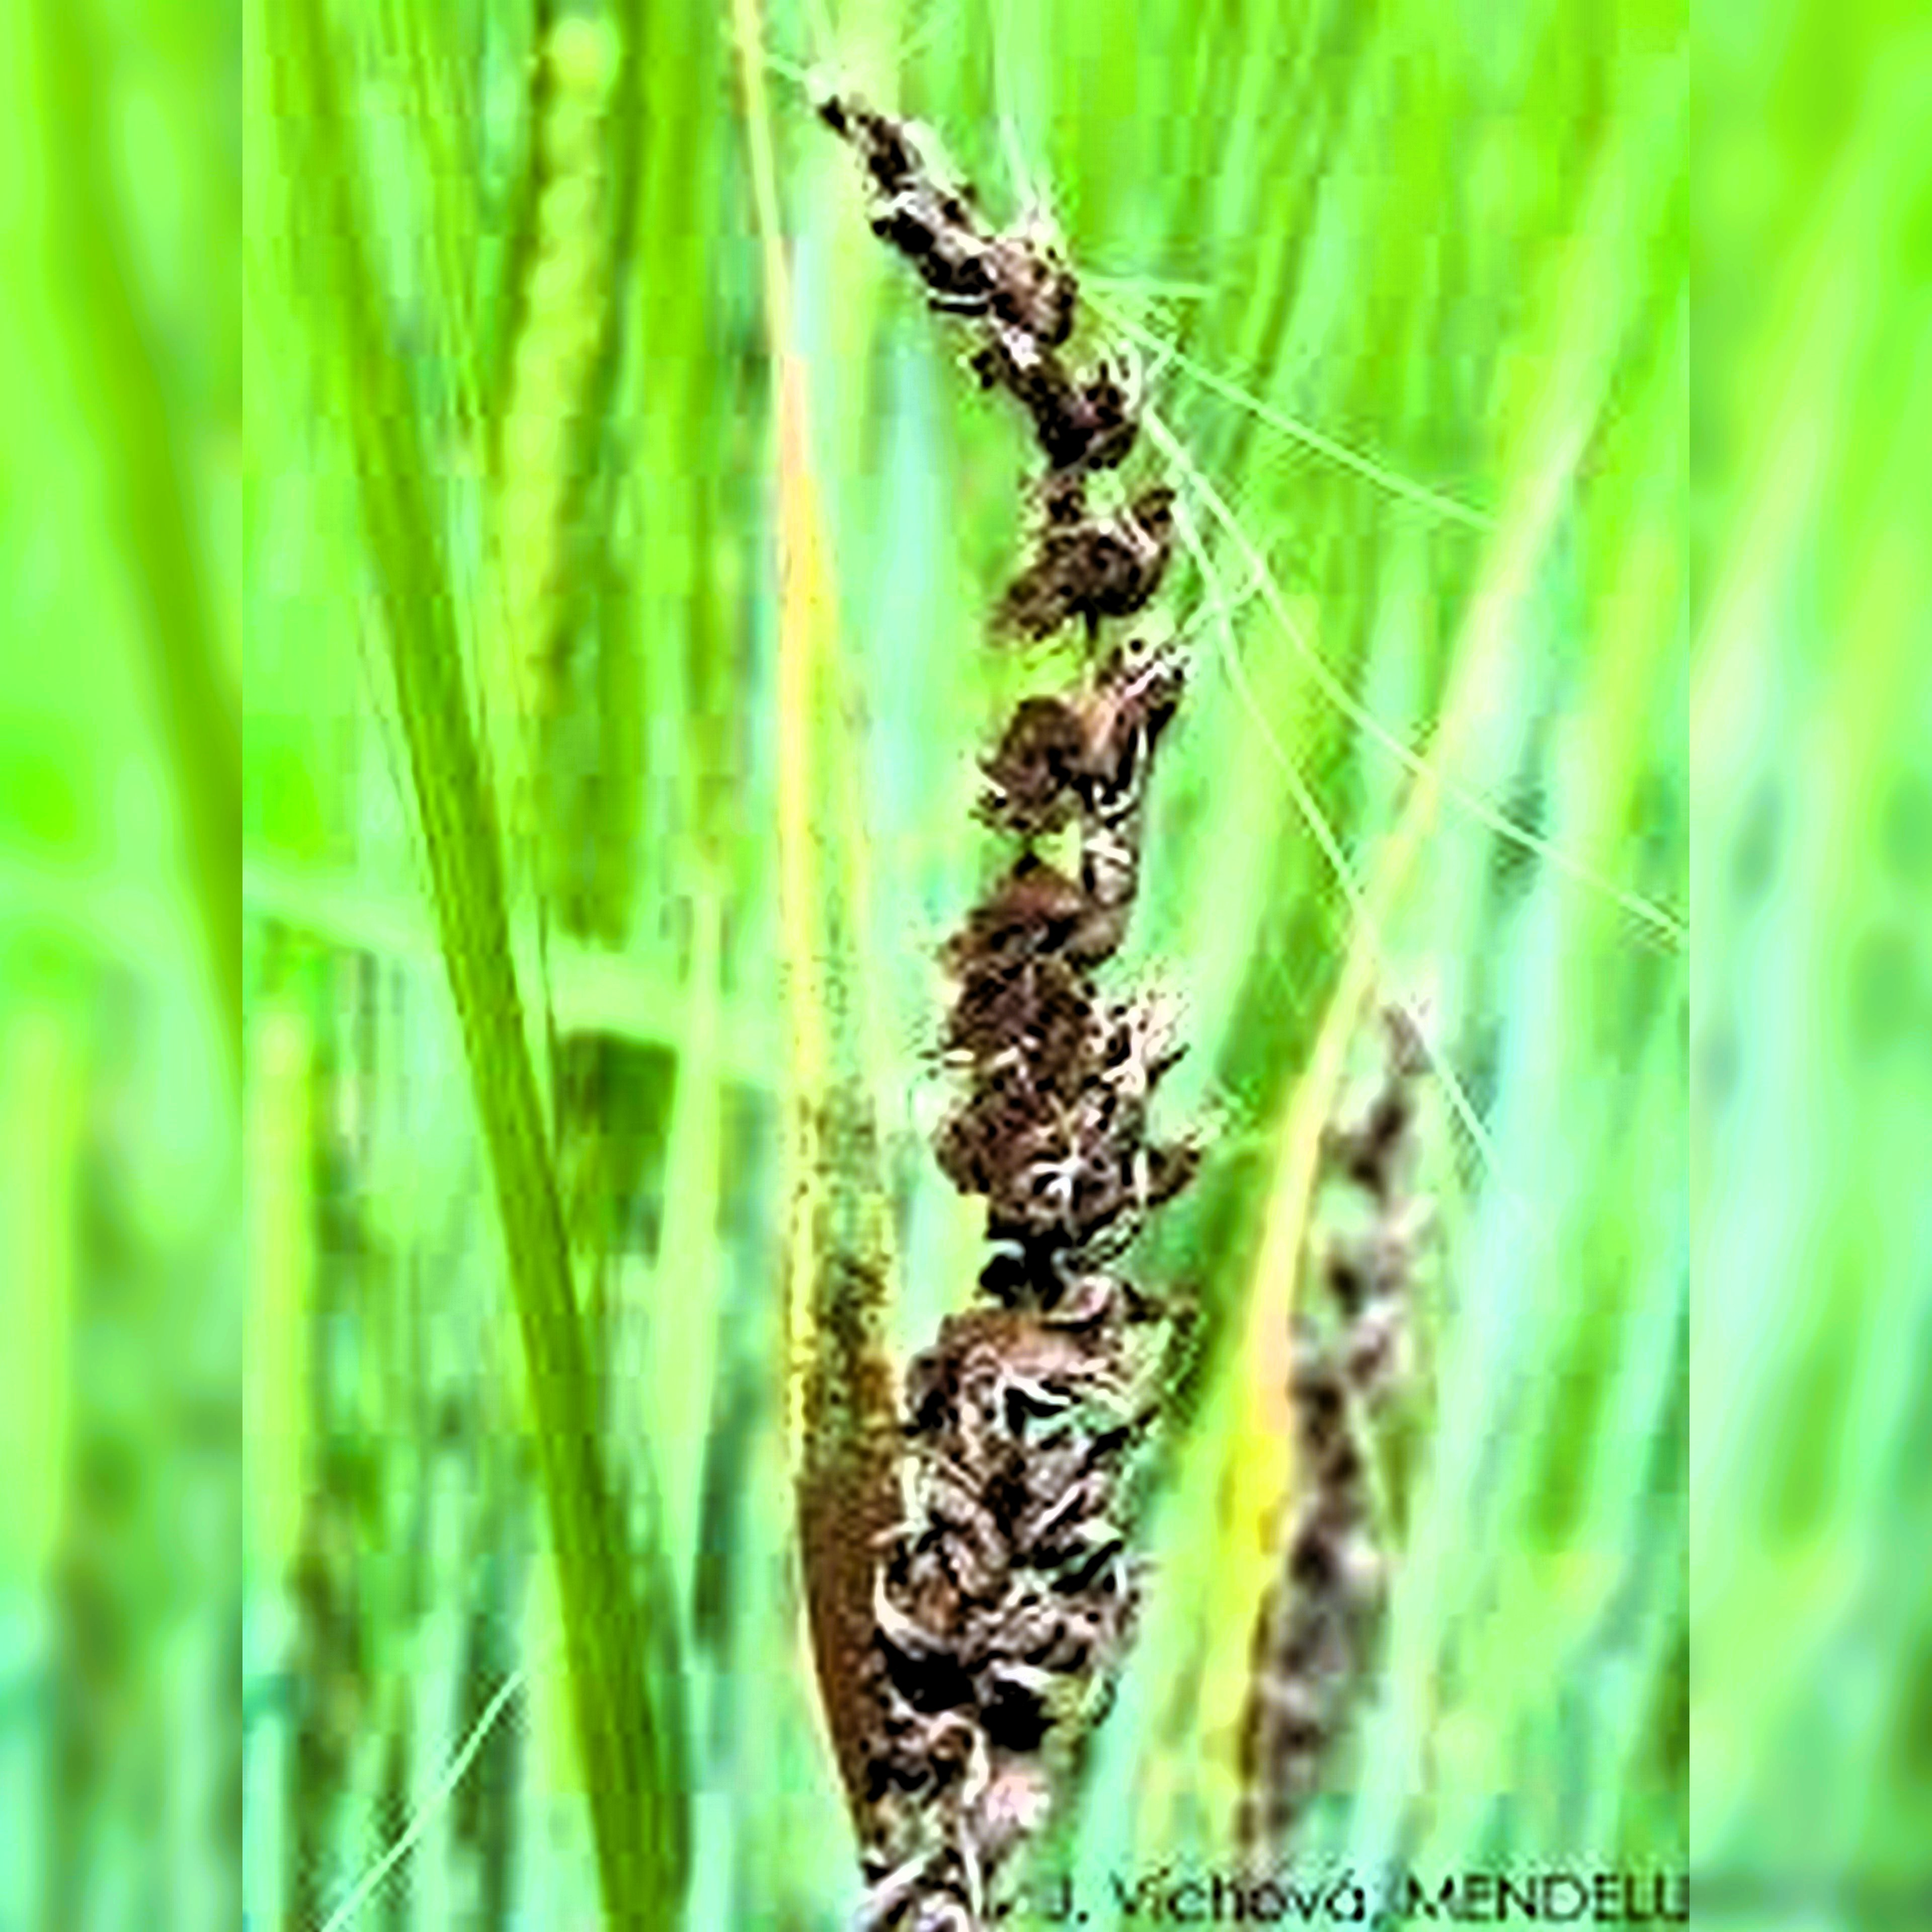Wheat Loose Smut: (798, 87, 1281, 1208)
